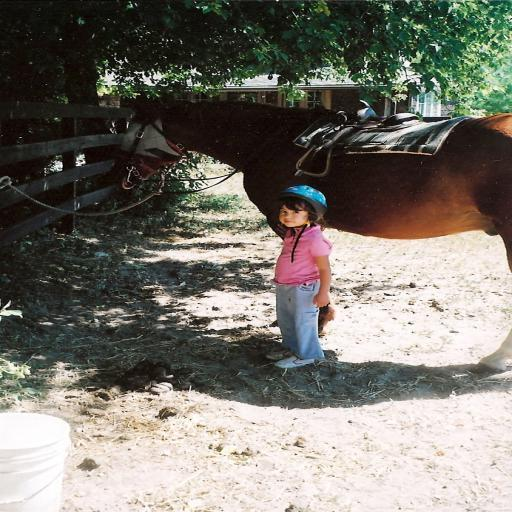horse: (110, 99, 512, 376)
